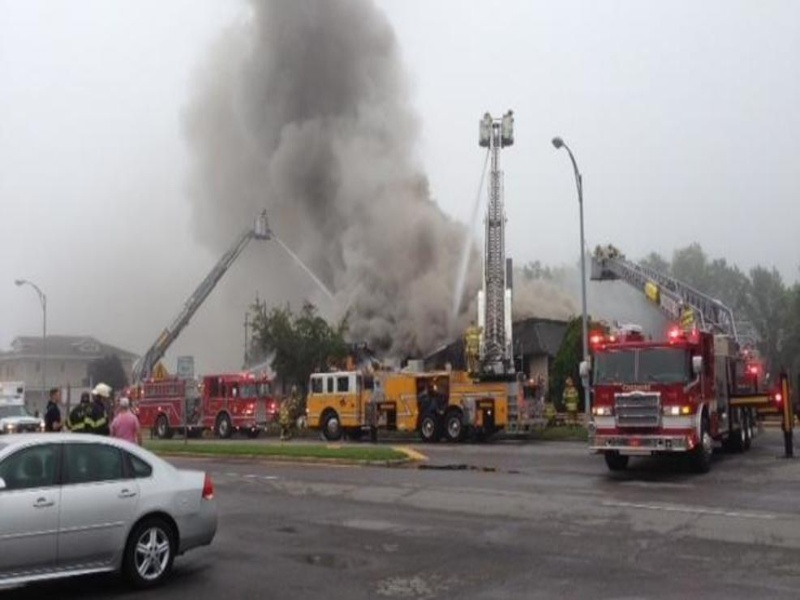smoke: (205, 1, 456, 324)
